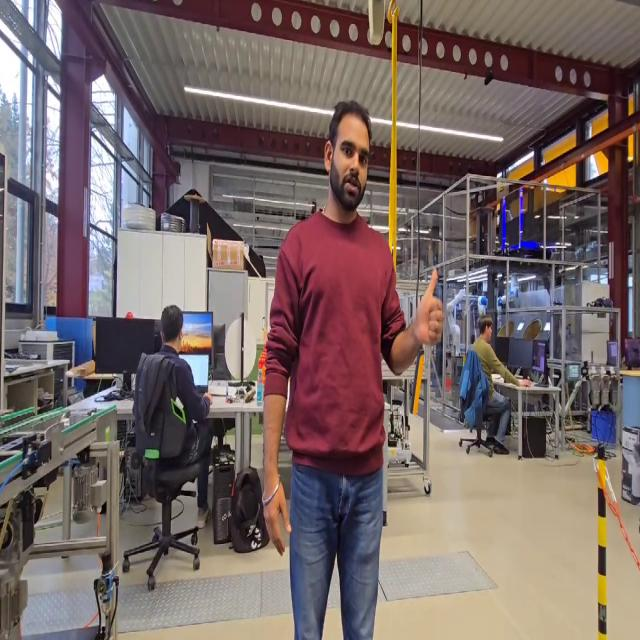thumbs_up: (412, 263, 448, 352)
